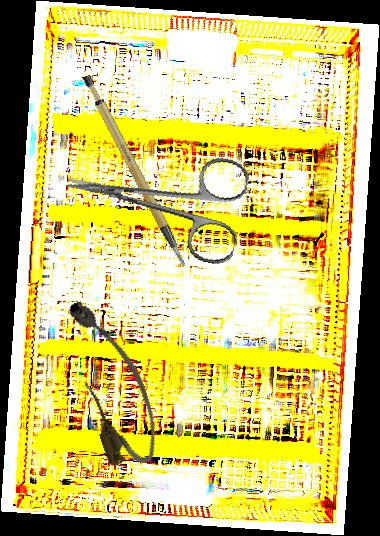Cannula: (58, 290, 167, 474)
Iris Scissors: (56, 126, 253, 268)
Scalpel Handle: (78, 64, 188, 280)
